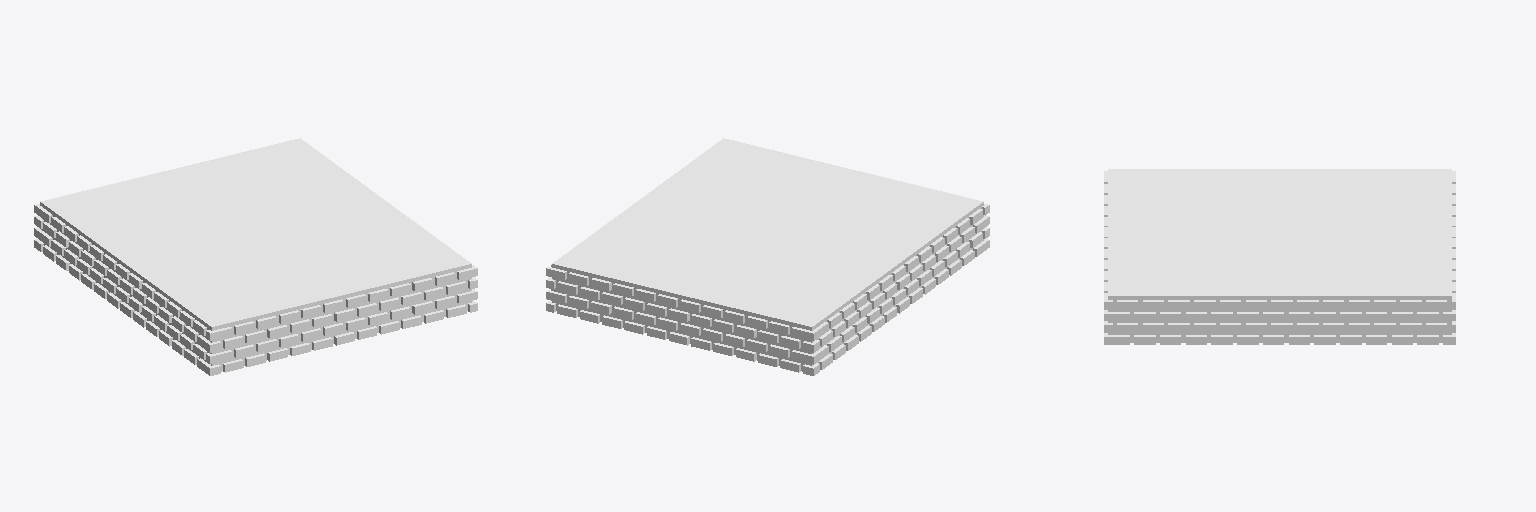
The model's file is TopWall1(v.1.0.0).obj.
3 renders of one model, left to right at view 1: azimuth 30°, elevation 25°; view 2: azimuth 150°, elevation 25°; view 3: azimuth 270°, elevation 25°, orthographic.
Parts seen in each view (by area): view 1: object 1; view 2: object 1; view 3: object 1.
Part boxes in pixels (left/top/right/bottom): object 1: left=34, top=138, right=477, bottom=375; object 1: left=546, top=138, right=989, bottom=375; object 1: left=1104, top=169, right=1455, bottom=344.
Size of the model in its own units: 7.2 by 1.2 by 8.2.